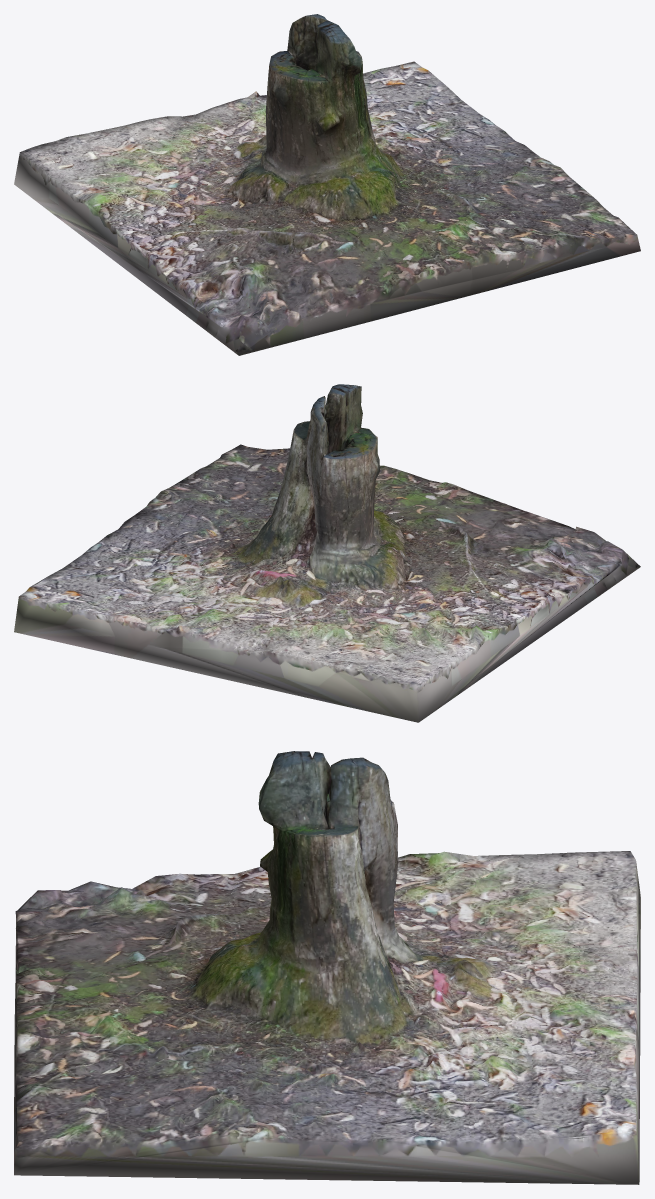
The model's file is tree.gltf.
3 views of the same model, one above another, from view 1: azimuth 30°, elevation 25°; view 2: azimuth 150°, elevation 25°; view 3: azimuth 270°, elevation 25° (orthographic). The views are drawn at different scales.
Visible parts, largest first — view 1: TREE_STUMP_CARVED_5K; view 2: TREE_STUMP_CARVED_5K; view 3: TREE_STUMP_CARVED_5K.
Boxes of the visible parts, x1,y1,x2,y2 form: TREE_STUMP_CARVED_5K: (14, 14, 640, 355); TREE_STUMP_CARVED_5K: (14, 384, 640, 722); TREE_STUMP_CARVED_5K: (14, 751, 640, 1184).
Size of the model in its own units: 2.54 by 1.24 by 2.44.
1 material, 1 textured.
